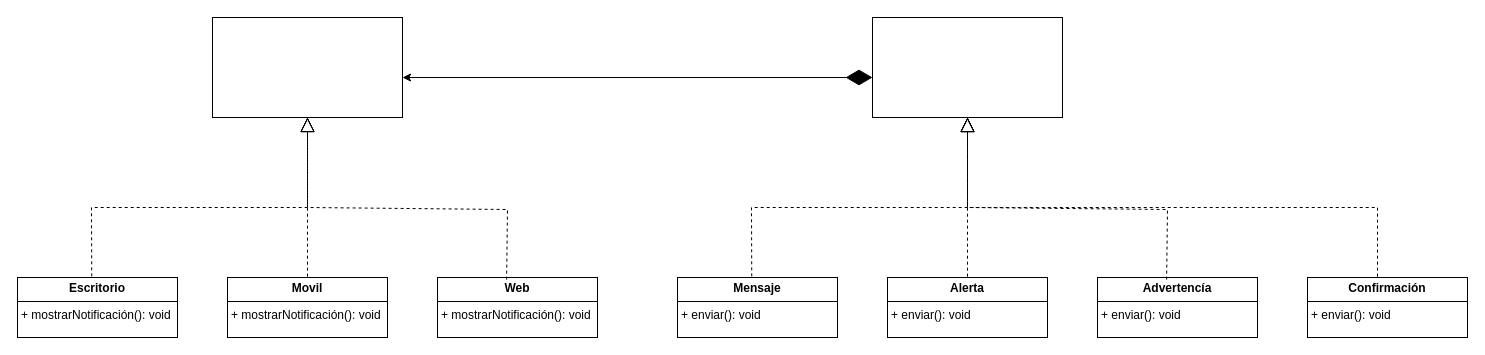
This 1485x355 diagram has some shape labels left out. Each missing label, with the box of its shape:
<<Abstract class>> Notificación - dispositivo: Dispositivo + enviar(): void: (872, 16, 1062, 118)
<<Interface>> Dispositivo + mostrarNotificación(): void: (212, 16, 402, 118)
